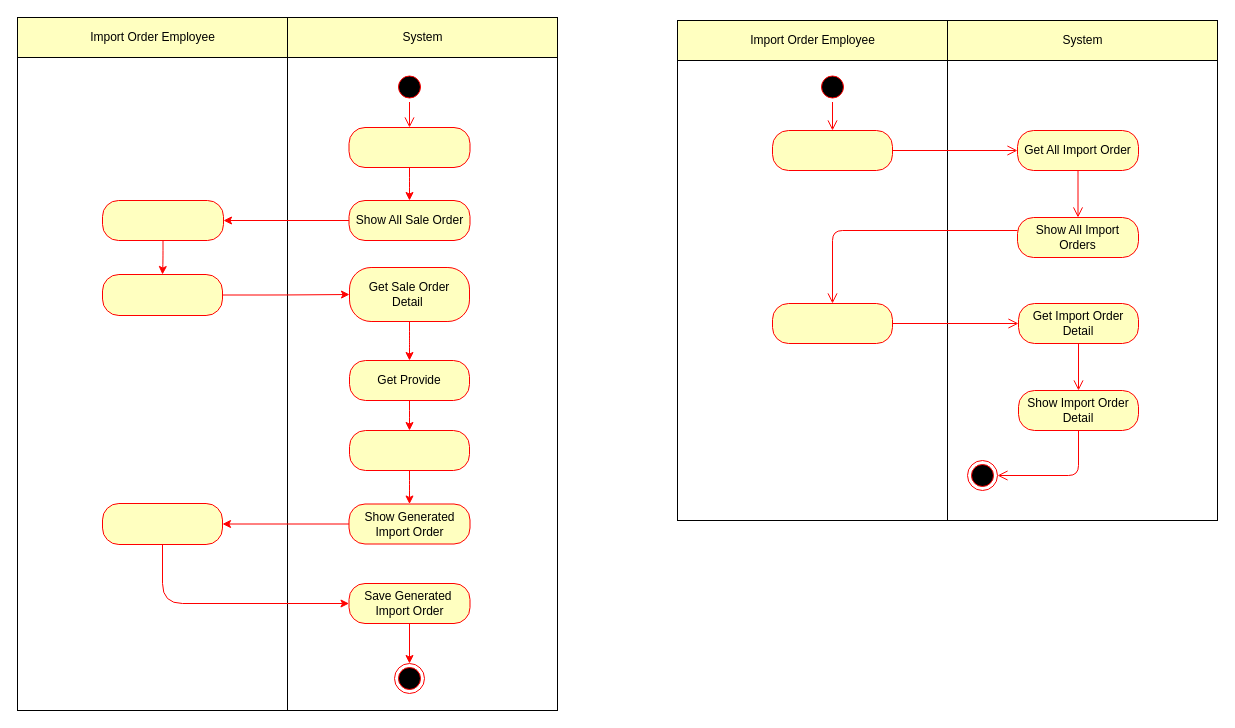
Some shapes in this 1235 by 728 pixel diagram are drawn without their labels. Here are the shapes that lost their labels. From the top down, the centre of each, then its label:
pixel 409 147: Get All Sale Order
pixel 832 150: Click Import Order
pixel 163 220: Choose Sale Order
pixel 162 295: Click Generate Import Order
pixel 832 323: Click Detail Import Order
pixel 409 450: Generate Import Order
pixel 162 523: Click Save
